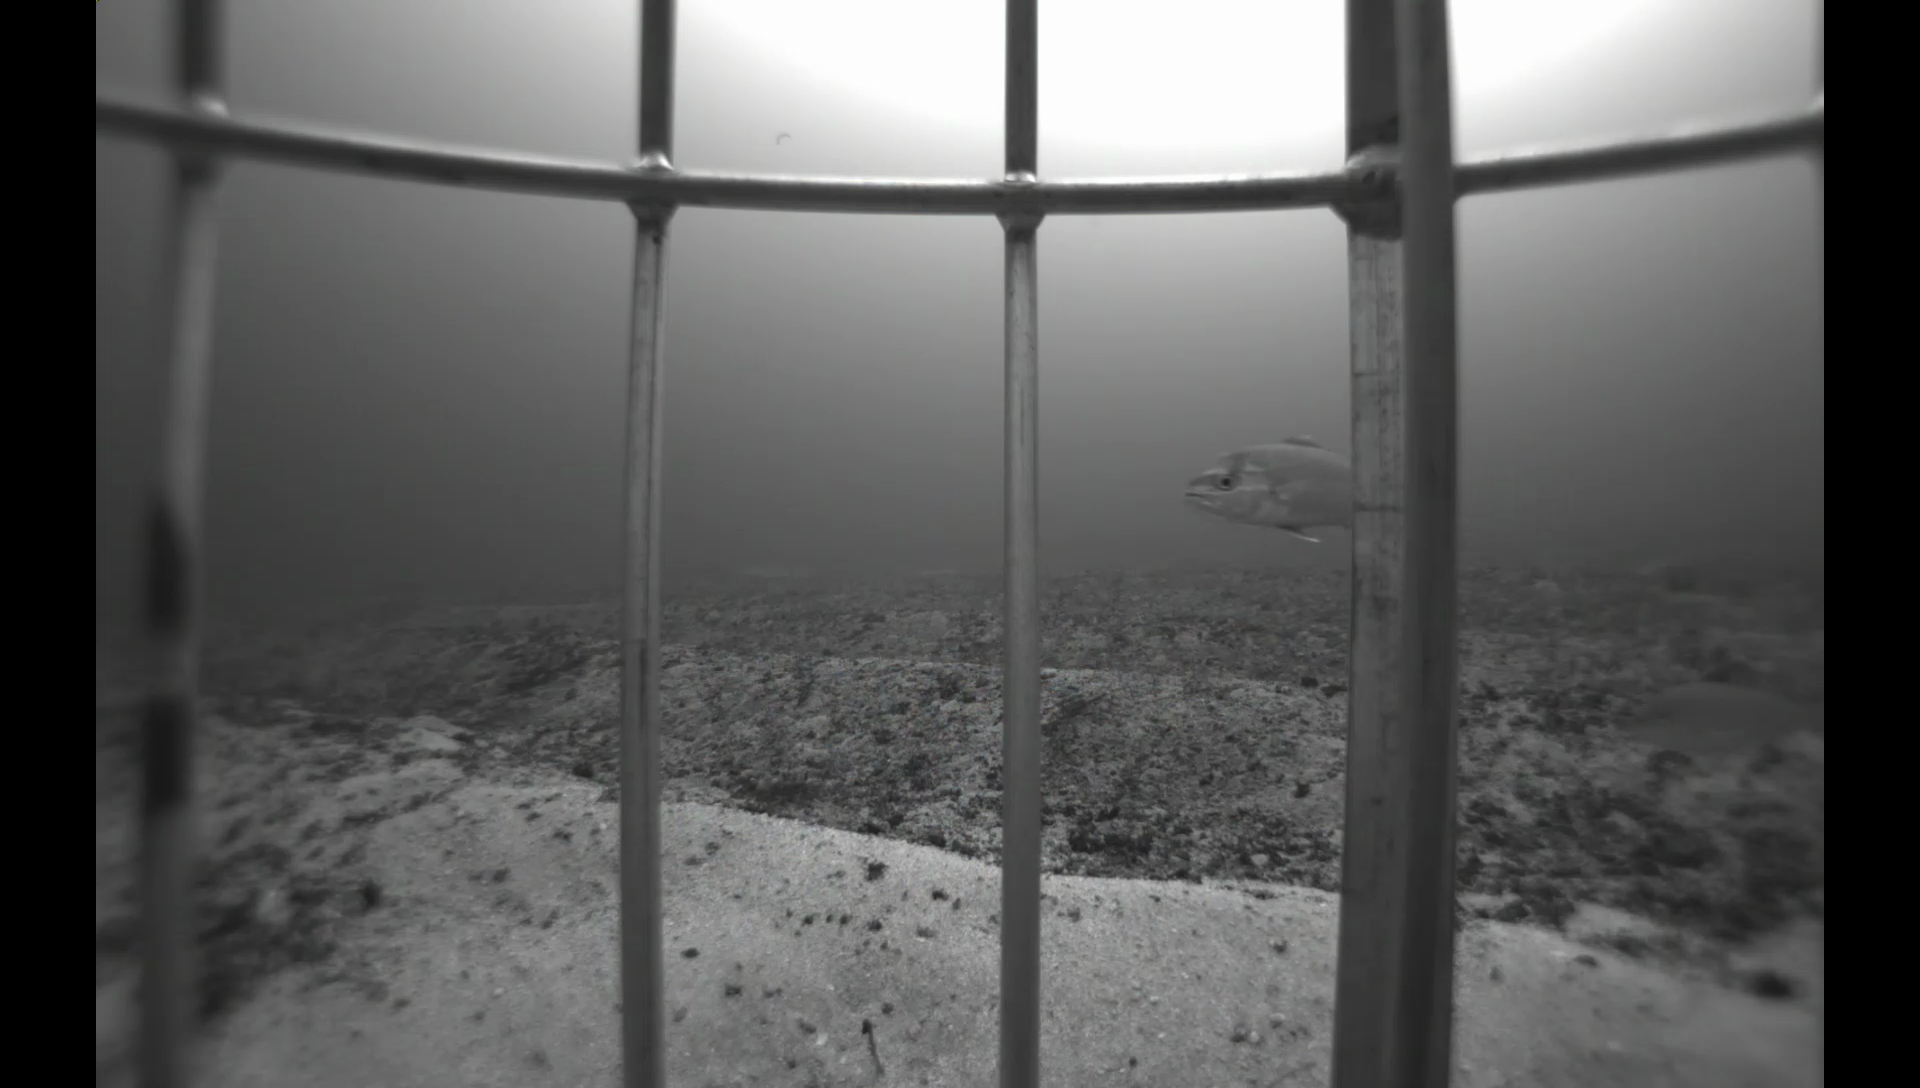RHOMBOPLITESAURORUBENS-170152001: (1621, 671, 1822, 761)
SERIOLAFASCIATA-170113103: (1171, 422, 1357, 553)
